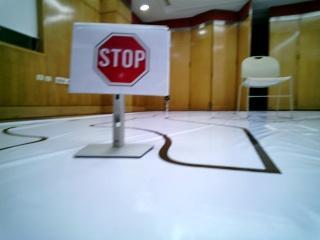stop: (74, 22, 158, 93)
